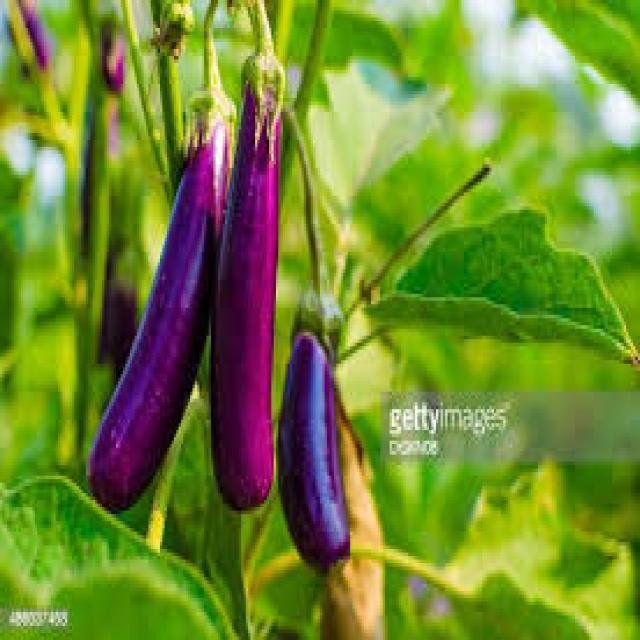Eggplant: (87, 0, 237, 512), (210, 0, 289, 512), (278, 295, 352, 576)
